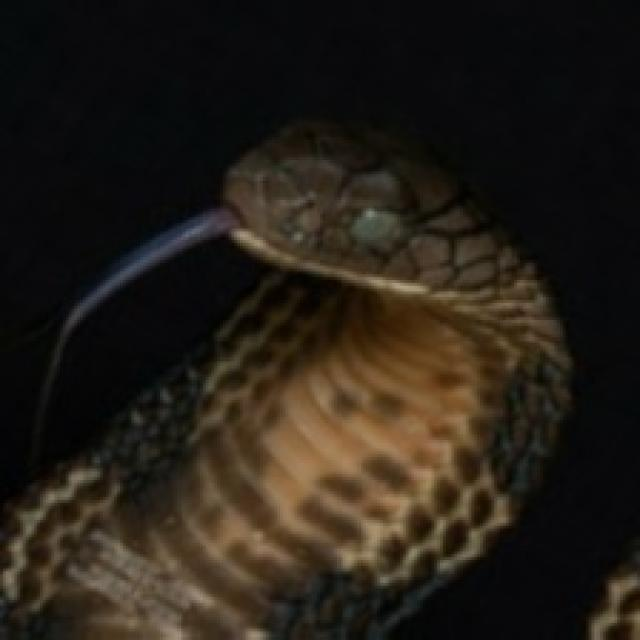king cobra: (0, 123, 569, 637)
